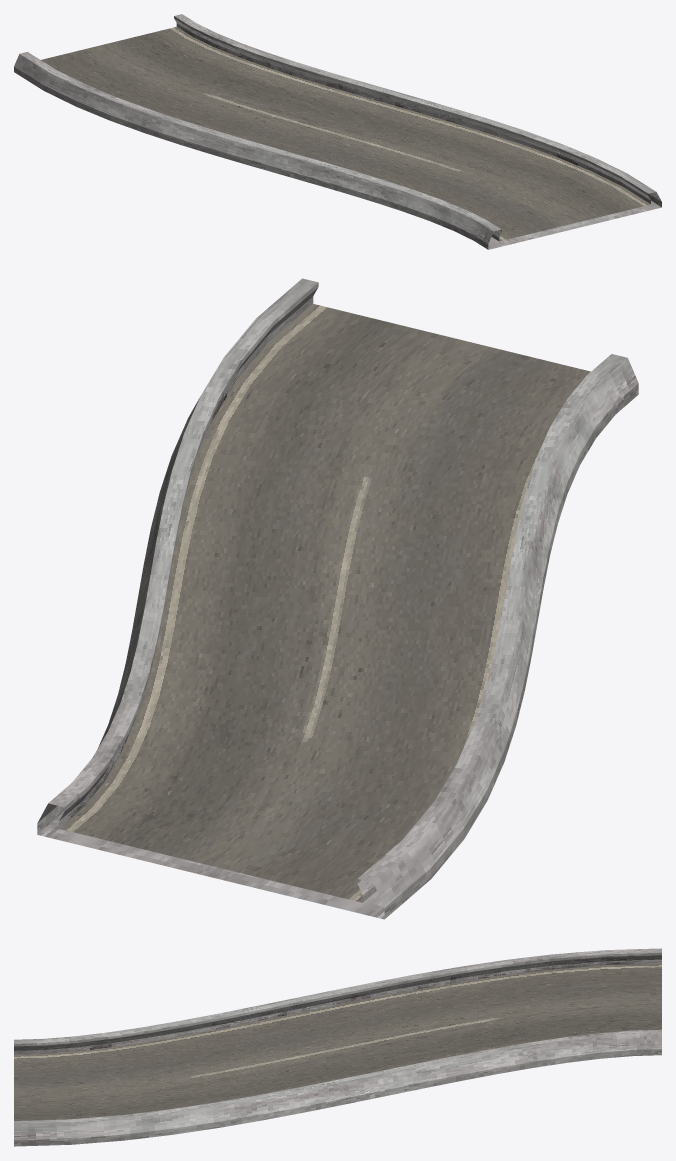
Rendered from road-Chicane-Flat-Flat-Even-Left1-Size3.glb.
3 views of the same model, one above another, from view 1: azimuth 30°, elevation 25°; view 2: azimuth 150°, elevation 25°; view 3: azimuth 270°, elevation 25° (orthographic). The views are drawn at different scales.
Visible parts, largest first — view 1: road-Chicane-Flat-Flat-Even-Left1-Size3; view 2: road-Chicane-Flat-Flat-Even-Left1-Size3; view 3: road-Chicane-Flat-Flat-Even-Left1-Size3.
Boxes of the visible parts, x1,y1,x2,y2 form: road-Chicane-Flat-Flat-Even-Left1-Size3: (14, 14, 661, 249); road-Chicane-Flat-Flat-Even-Left1-Size3: (37, 278, 638, 919); road-Chicane-Flat-Flat-Even-Left1-Size3: (14, 948, 661, 1146).
Size of the model in its own units: 2 by 0.0938 by 3.
2 materials, 2 textured.
